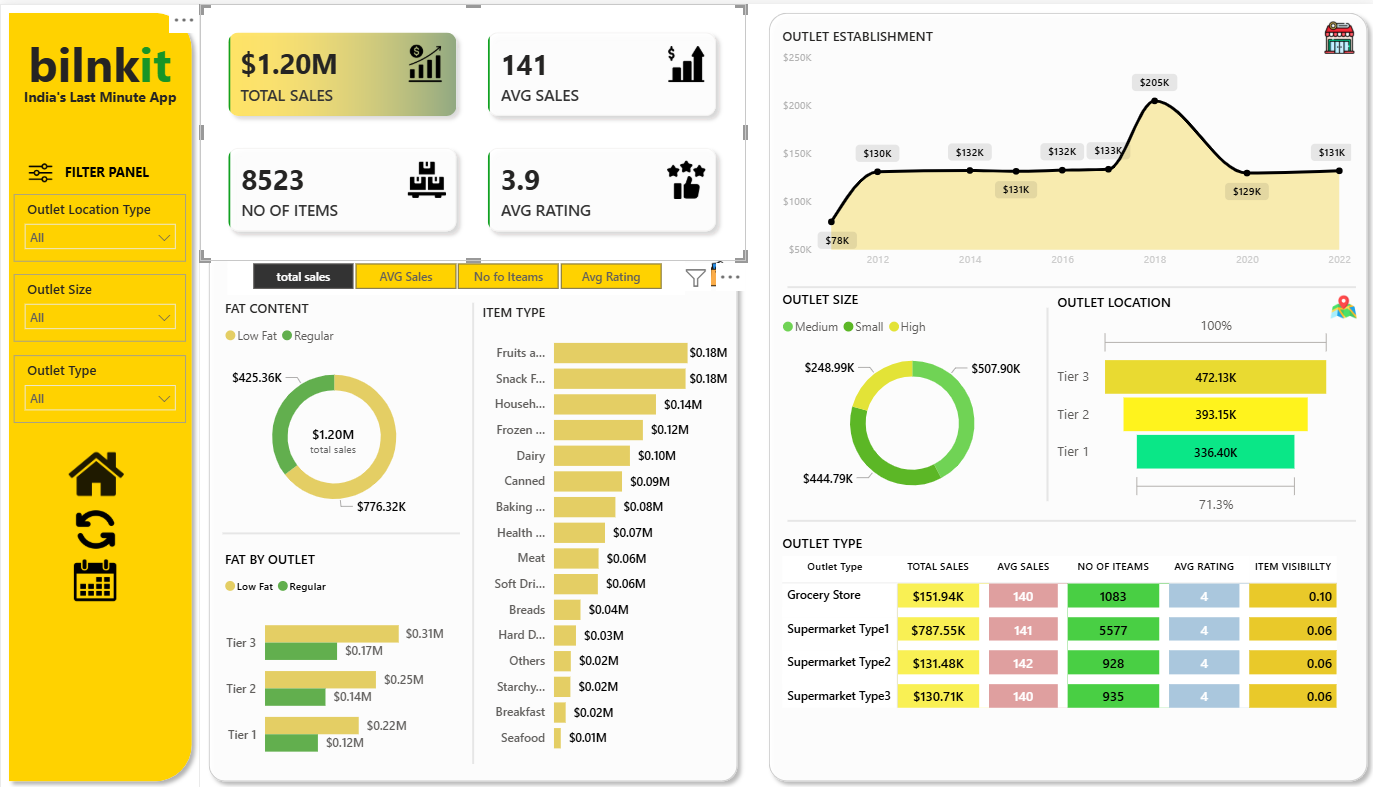

The page's visual inventory and layout, read from the dashboard file:
{"tool":"powerbi","page":{"name":"Page 1","canvas":[1400,800],"ordinal":0},"visuals":[{"type":"shape","box":[0,0,204.1,800],"z":0},{"type":"textbox","box":[252,0,204,800],"z":1000},{"type":"textbox","box":[14,22.9,175.5,82.7],"z":2000},{"type":"textbox","box":[14,80.1,175.5,34.3],"z":3000},{"type":"cardVisual","fields":{"Data":["BlinkIT Grocery Data.total sales","BlinkIT Grocery Data.AVG Sales","BlinkIT Grocery Data.No fo Iteams","BlinkIT Grocery Data.Avg Rating"]},"box":[203.5,0,555.8,262],"z":4000},{"type":"shape","box":[203.5,240.4,555.8,559.6],"z":5000},{"type":"donutChart","title":"FAT CONTENT","fields":{"Y":["BlinkIT Grocery Data.total sales"],"Category":["BlinkIT Grocery Data.Item Fat Content"]},"box":[223.8,300.1,232.7,235.3],"z":6000},{"type":"slicer","fields":{"Values":["Metrics.Metrics"]},"box":[231.5,256.9,465.5,39.4],"z":7000},{"type":"cardVisual","fields":{"Data":["BlinkIT Grocery Data.total sales"]},"box":[270.9,413.3,136.1,61],"z":8000},{"type":"clusteredBarChart","title":"FAT BY OUTLET","fields":{"Y":["BlinkIT Grocery Data.total sales"],"Category":["BlinkIT Grocery Data.Outlet Location Type"],"Series":["BlinkIT Grocery Data.Item Fat Content"]},"box":[223.8,555.8,232.7,230.2],"z":9000},{"type":"shape","box":[226.4,522.7,241.6,31.8],"z":10000},{"type":"shape","box":[468,304,26.7,469.3],"z":11000},{"type":"barChart","title":"ITEM TYPE","fields":{"Y":["BlinkIT Grocery Data.total sales"],"Category":["BlinkIT Grocery Data.Item Type"]},"box":[485.8,304,259.4,469.3],"z":12000},{"type":"shape","box":[773.3,0,627,800],"z":13000},{"type":"lineChart","title":"OUTLET ESTABLISHMENT","fields":{"Category":["BlinkIT Grocery Data.Outlet Establishment Year"],"Y":["BlinkIT Grocery Data.total sales"]},"box":[791.1,22.9,588.8,254.4],"z":14000},{"type":"shape","box":[1023.8,309,83.9,197.1],"z":15000},{"type":"donutChart","title":"OUTLET SIZE","fields":{"Y":["BlinkIT Grocery Data.total sales"],"Category":["BlinkIT Grocery Data.Outlet Size"]},"box":[791.1,291.2,274.7,225.1],"z":16000},{"type":"shape","box":[801.1,278.4,578.7,19.1],"z":17000},{"type":"funnel","title":"OUTLET LOCATION","fields":{"Y":["Sum(BlinkIT Grocery Data.Sales)"],"Category":["BlinkIT Grocery Data.Outlet Location Type"]},"box":[1070.9,293.8,288.7,230.2],"z":18000},{"type":"shape","box":[801.2,516.4,578.7,19.1],"z":19000},{"type":"pivotTable","title":"OUTLET TYPE","fields":{"Rows":["BlinkIT Grocery Data.Outlet Type"],"Values":["BlinkIT Grocery Data.total sales","BlinkIT Grocery Data.AVG Sales","BlinkIT Grocery Data.No fo Iteams","BlinkIT Grocery Data.Avg Rating","Avg(BlinkIT Grocery Data.Item Visibility)"]},"box":[791.1,539.2,597.7,245.5],"z":20000},{"type":"slicer","fields":{"Values":["BlinkIT Grocery Data.Outlet Location Type"]},"box":[14,193.3,175.5,68.7],"z":21000},{"type":"slicer","fields":{"Values":["BlinkIT Grocery Data.Outlet Size"]},"box":[14,274.7,175.5,68.7],"z":22000},{"type":"slicer","fields":{"Values":["BlinkIT Grocery Data.Outlet Type"]},"box":[14,357.4,175.5,68.7],"z":23000},{"type":"textbox","box":[61,156.4,97.9,30.5],"z":24000},{"type":"image","box":[69.9,450.2,56,56],"z":25000},{"type":"image","box":[63.6,515.1,67.4,39.4],"z":26000},{"type":"image","box":[56,564.7,81.4,43.2],"z":27000},{"type":"image","box":[29.3,159,24.2,25.4],"z":28000},{"type":"image","box":[1339.2,17.8,47.1,33.1],"z":29000},{"type":"image","box":[719.8,254.4,25.4,39.4],"z":30000},{"type":"image","box":[1350.7,295.1,33.1,26.7],"z":31000}]}

Visuals, with their boxes in screenshot pixels (x1, y1, x2, y2), scaled from the page's 1400x800 canvas onto the 1373x787 screenshot:
shape: select_region(0, 0, 200, 786)
textbox: select_region(247, 0, 447, 786)
textbox: select_region(14, 23, 186, 104)
textbox: select_region(14, 79, 186, 113)
cardVisual - BlinkIT Grocery Data.total sales x BlinkIT Grocery Data.AVG Sales: select_region(200, 0, 745, 258)
shape: select_region(200, 236, 745, 786)
"FAT CONTENT" donutChart: select_region(219, 295, 448, 527)
slicer - Metrics.Metrics: select_region(227, 253, 684, 291)
cardVisual - BlinkIT Grocery Data.total sales: select_region(266, 407, 399, 467)
"FAT BY OUTLET" clusteredBarChart: select_region(219, 547, 448, 773)
shape: select_region(222, 514, 459, 545)
shape: select_region(459, 299, 485, 761)
"ITEM TYPE" barChart: select_region(476, 299, 731, 761)
shape: select_region(758, 0, 1372, 786)
"OUTLET ESTABLISHMENT" lineChart: select_region(776, 23, 1353, 273)
shape: select_region(1004, 304, 1086, 498)
"OUTLET SIZE" donutChart: select_region(776, 286, 1045, 508)
shape: select_region(786, 274, 1353, 293)
"OUTLET LOCATION" funnel: select_region(1050, 289, 1333, 515)
shape: select_region(786, 508, 1353, 527)
"OUTLET TYPE" pivotTable: select_region(776, 530, 1362, 772)
slicer - BlinkIT Grocery Data.Outlet Location Type: select_region(14, 190, 186, 258)
slicer - BlinkIT Grocery Data.Outlet Size: select_region(14, 270, 186, 338)
slicer - BlinkIT Grocery Data.Outlet Type: select_region(14, 352, 186, 419)
textbox: select_region(60, 154, 156, 184)
image: select_region(69, 443, 123, 498)
image: select_region(62, 507, 128, 545)
image: select_region(55, 556, 135, 598)
image: select_region(29, 156, 52, 181)
image: select_region(1313, 18, 1360, 50)
image: select_region(706, 250, 731, 289)
image: select_region(1325, 290, 1357, 317)
